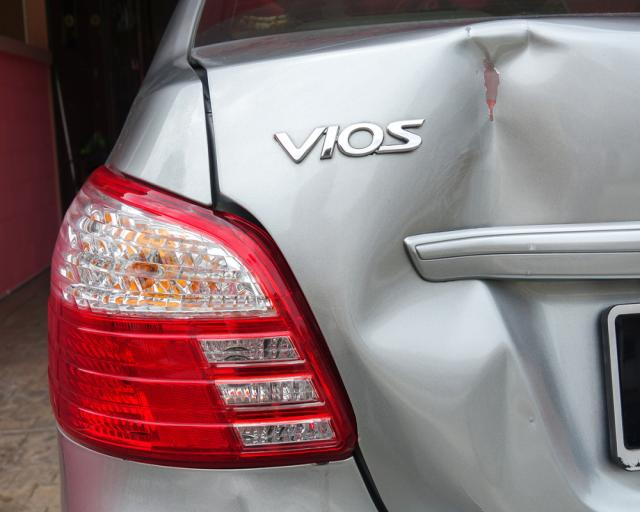dent: (357, 26, 572, 512)
